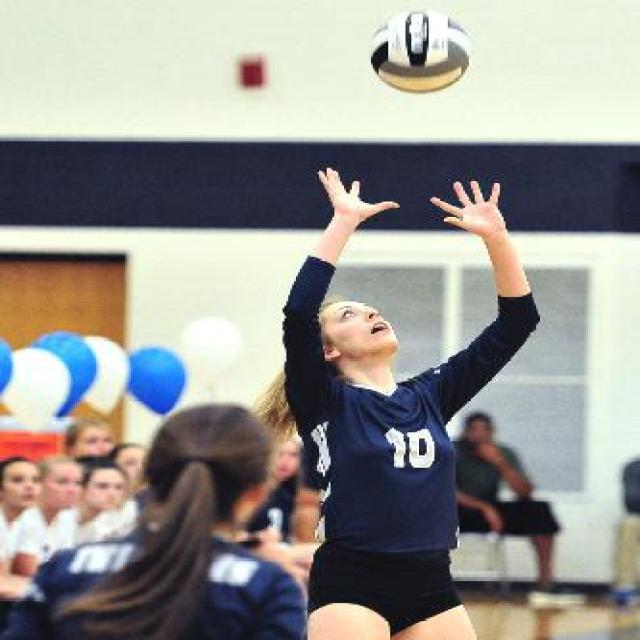volleyball: (369, 9, 473, 94)
